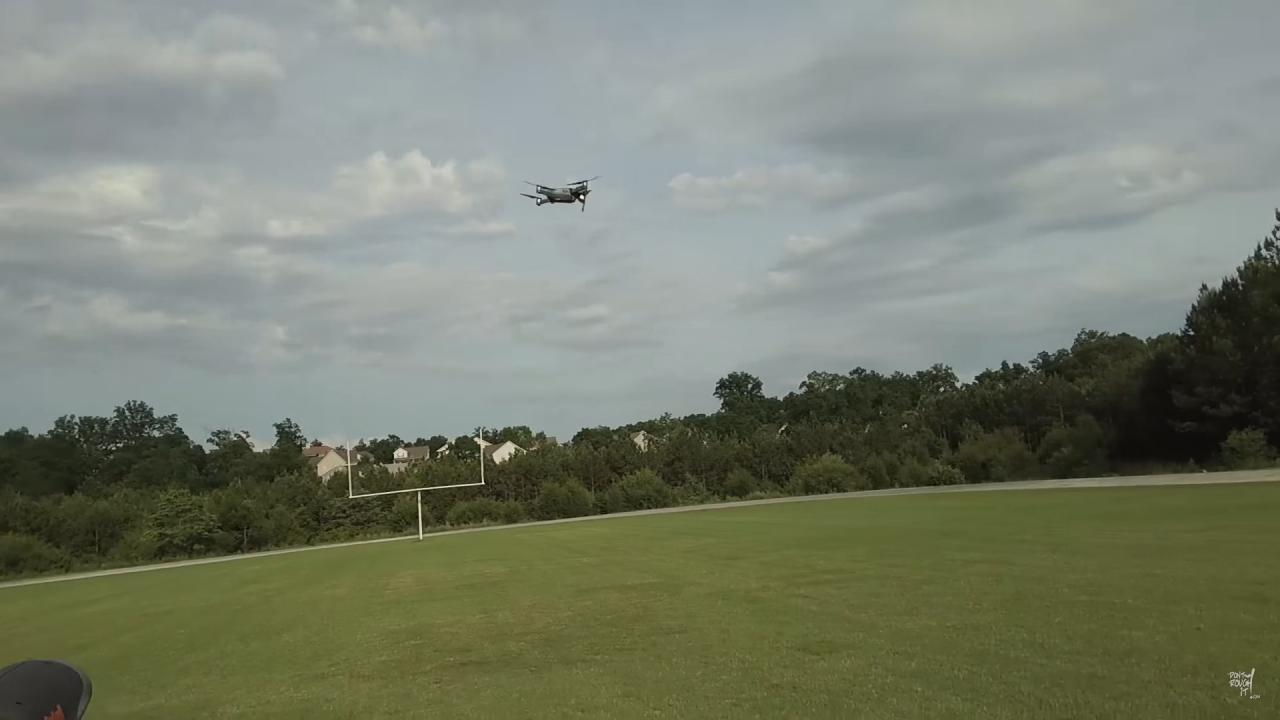Drone: (510, 173, 608, 213)
